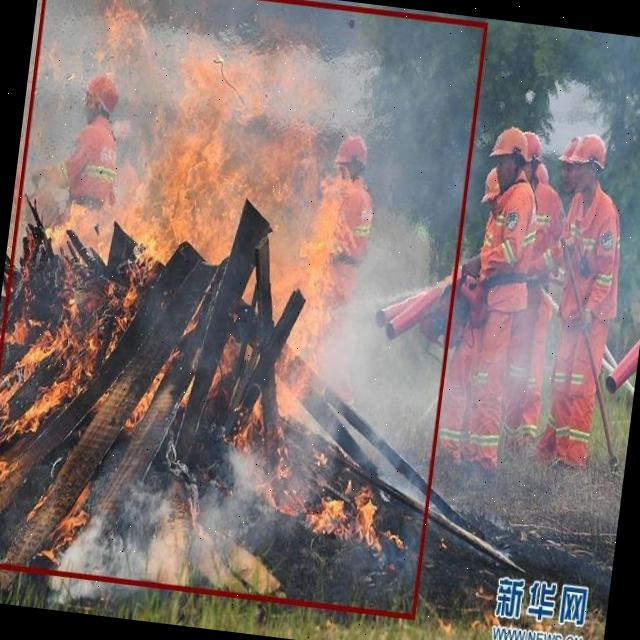fire: (0, 0, 486, 619)
